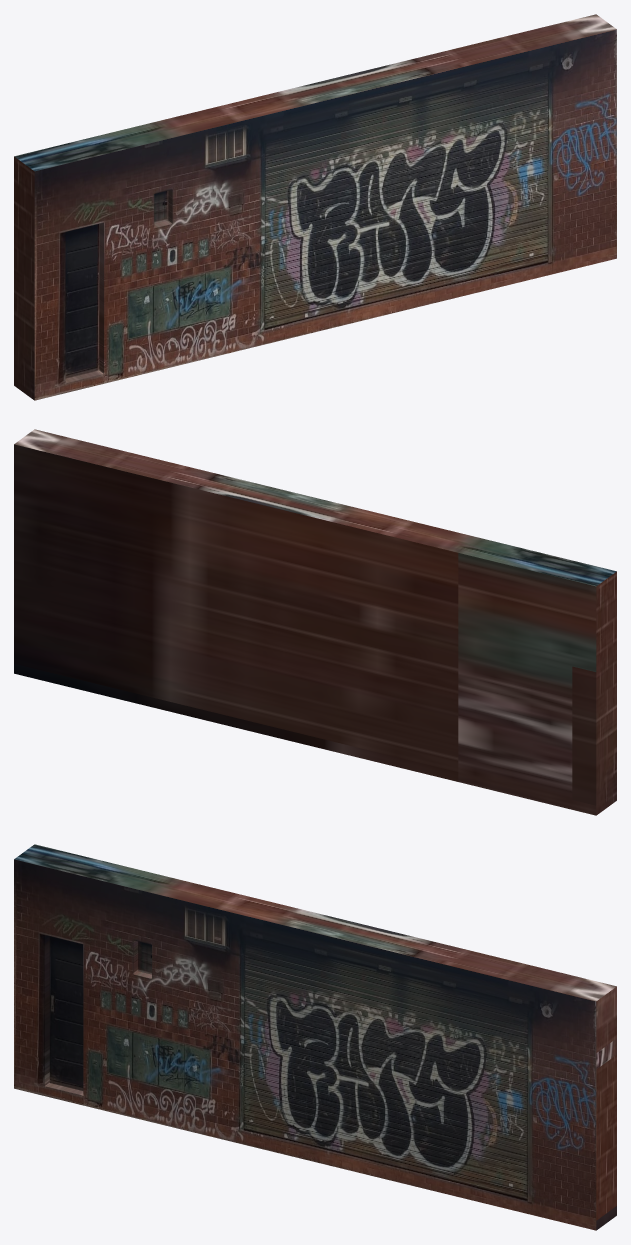
Rendered from chaparatsabajo.fbx.
The picture shows the model from 3 angles, top to bottom: view 1: azimuth 30°, elevation 25°; view 2: azimuth 150°, elevation 25°; view 3: azimuth 330°, elevation 25°; orthographic projection.
Parts seen in each view (by area): view 1: Cube; view 2: Cube; view 3: Cube.
Part boxes in pixels (x1,y1,x2,y2): Cube: (14, 14, 616, 400); Cube: (14, 429, 616, 815); Cube: (14, 844, 616, 1230).
Bounding box in the file's own units: 1595 × 600 × 97.88.
